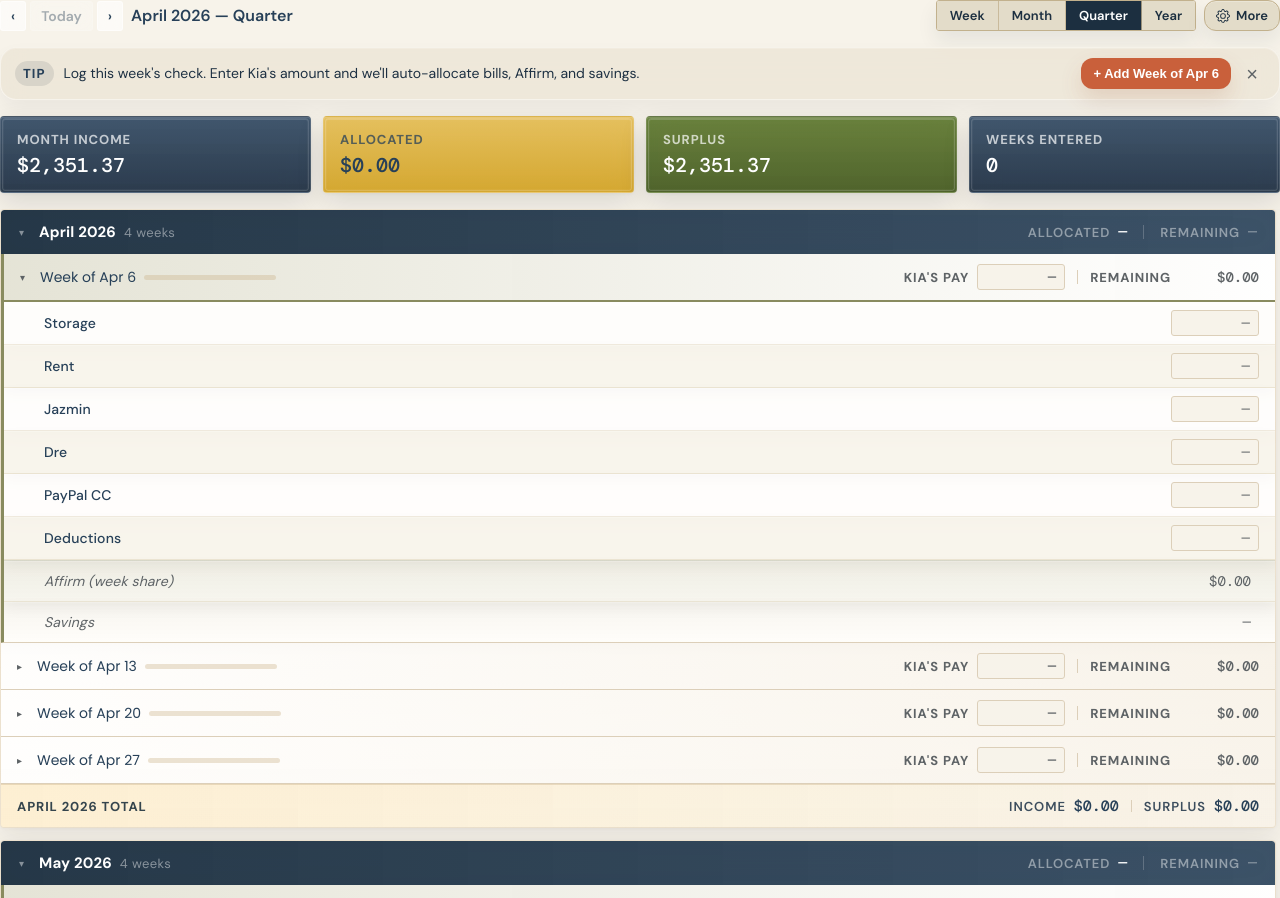
Test case: PaycheckTab — navigation › allows quarterly view to land on the Dec 2025 data boundary
The width and height of the screenshot is (1280, 898).
Click the button named "Previous month" at (13, 16), box [0, 0, 26, 30]
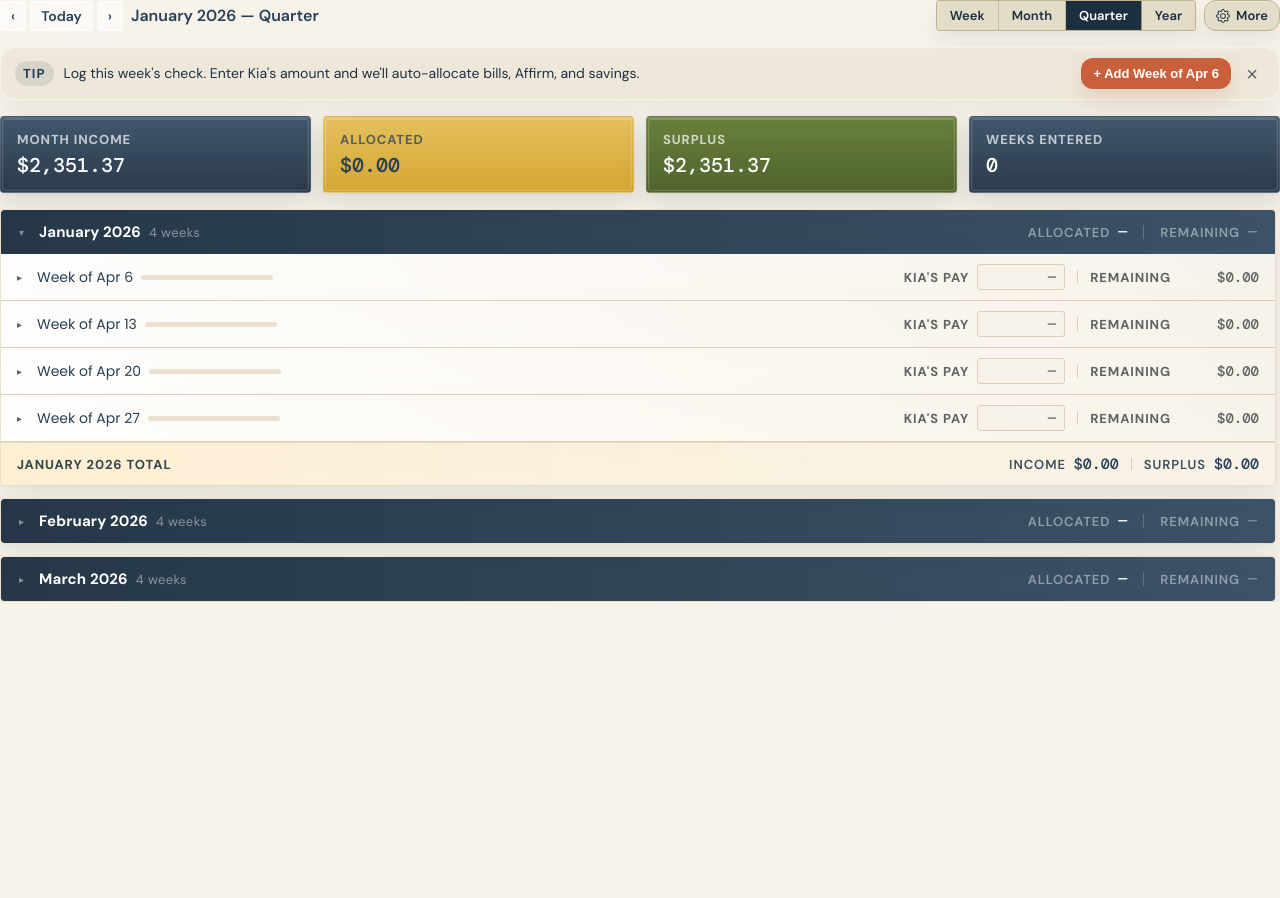
Click the button named "Previous month" at (13, 16), box [0, 0, 26, 30]
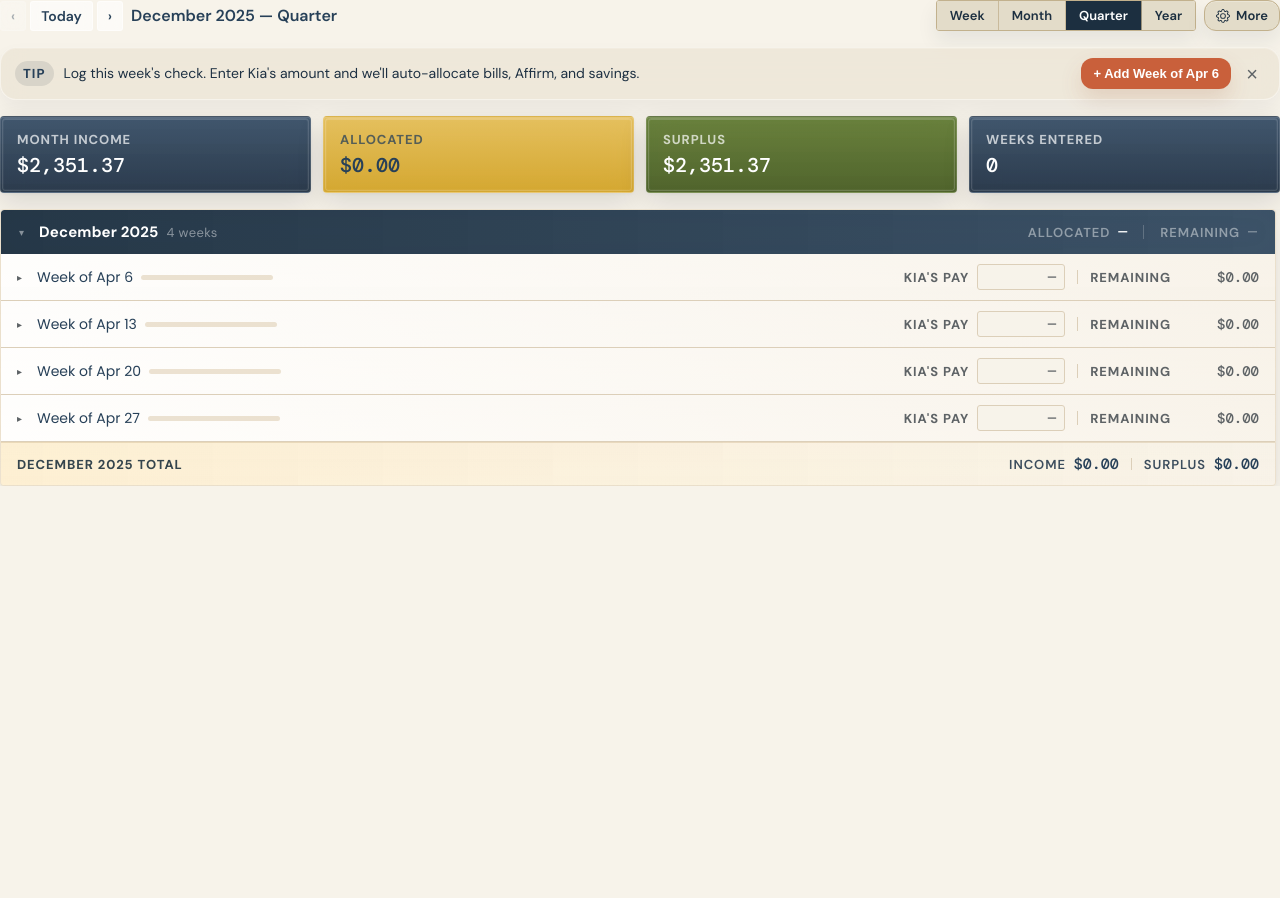
Check: the heading "December 2025 — Quarter" is shown, box [131, 5, 337, 26]
